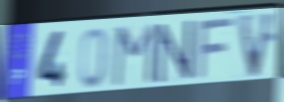0: (77, 26, 111, 91)
4: (35, 28, 71, 95)
F: (194, 15, 237, 83)
M: (110, 21, 159, 89)
N: (156, 18, 195, 86)
V: (236, 10, 279, 81)
